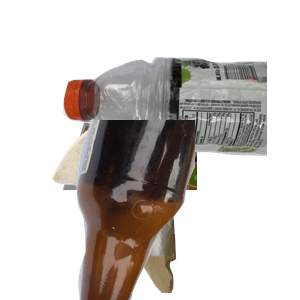glass: (60, 120, 300, 300)
metal: (60, 82, 300, 262)
plastic: (60, 53, 300, 201)
trash: (50, 120, 219, 300)
